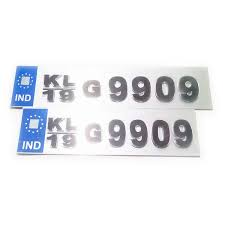inlp: (19, 109, 198, 152)
